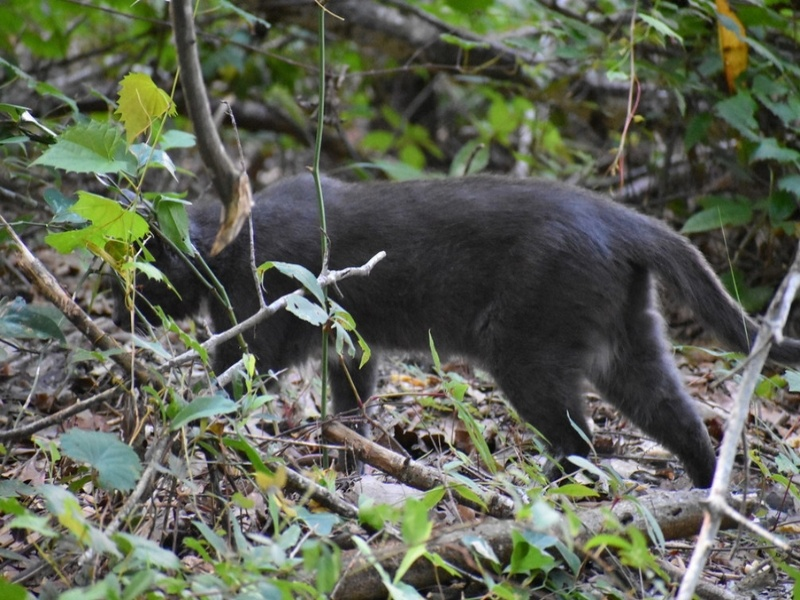cat: (102, 170, 794, 491)
